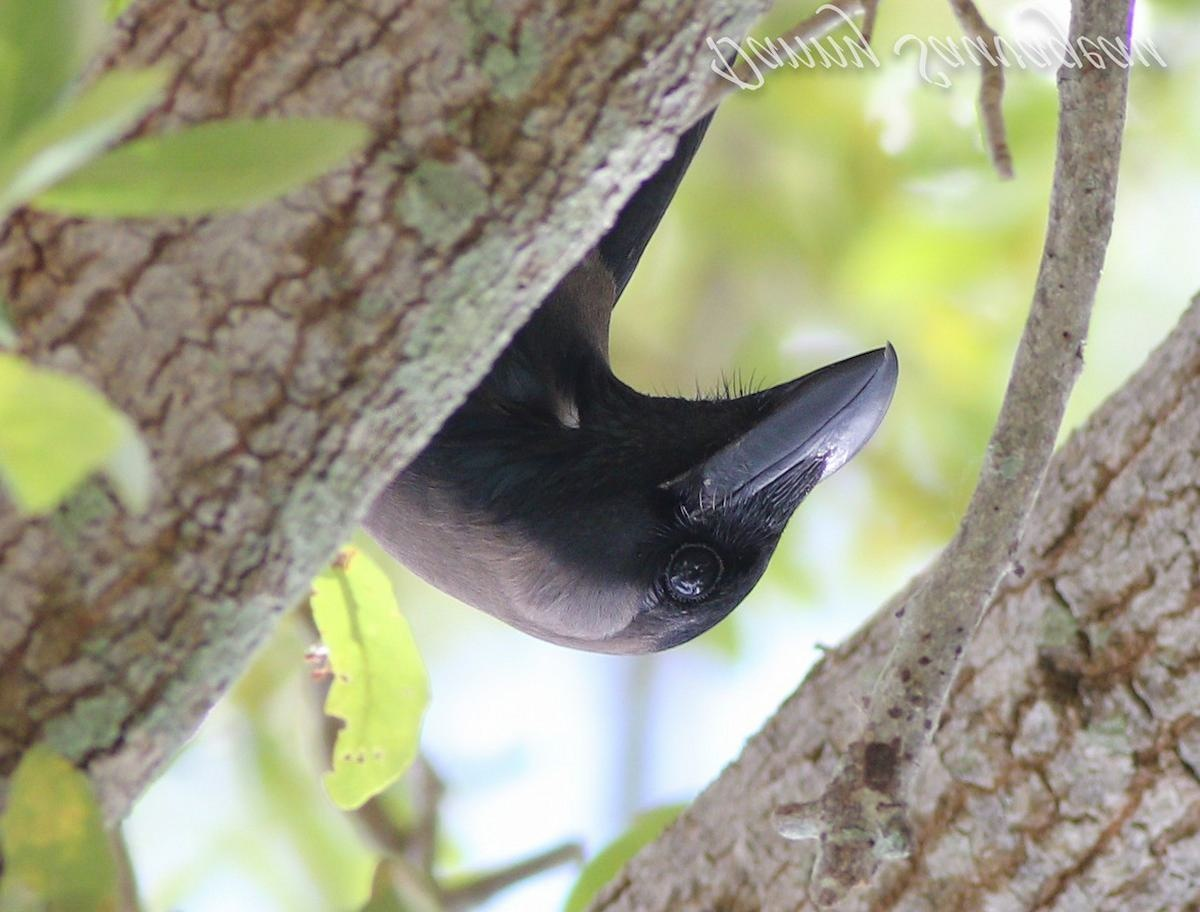crow: (350, 211, 926, 637)
